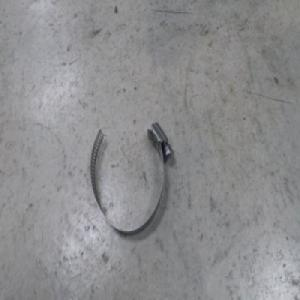AdjustableClamp: (88, 123, 171, 238)
